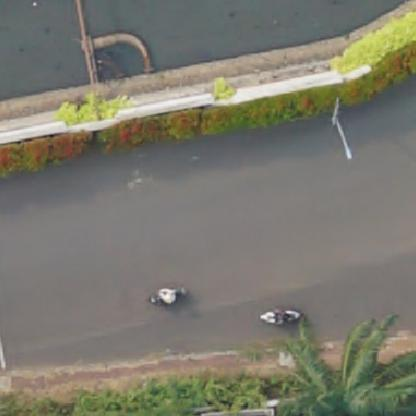motorcycle: (257, 308, 306, 329), (149, 285, 188, 307)
